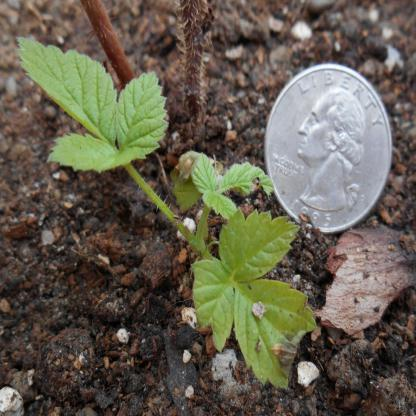Raspberry leaf: (17, 36, 122, 143), (232, 278, 324, 392), (216, 209, 296, 282), (183, 262, 239, 343), (119, 64, 168, 156), (46, 132, 136, 170)
